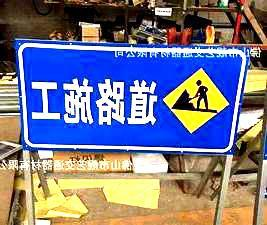sign: (18, 42, 236, 155)
